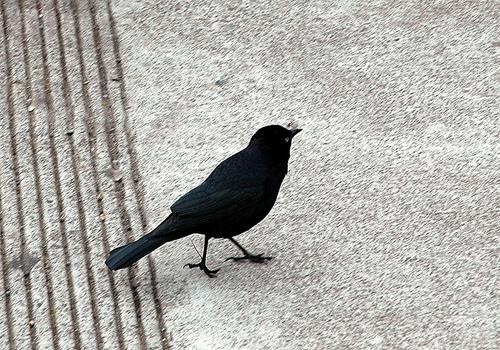009.Brewer_Blackbird: (105, 124, 304, 284)
